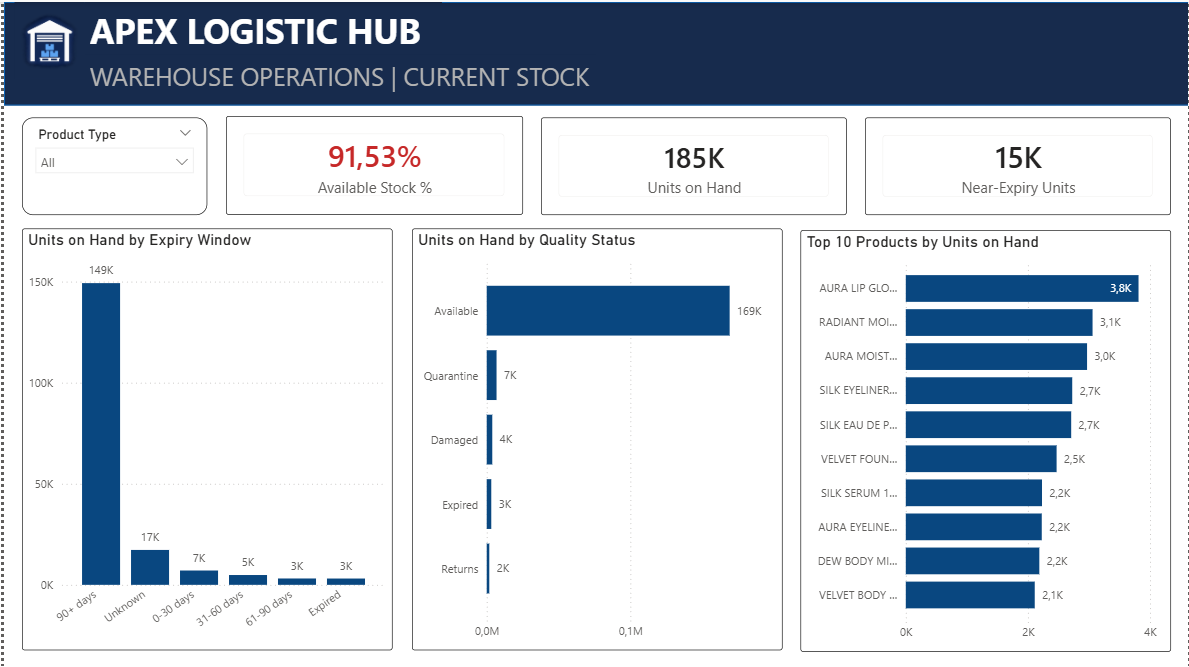

The page's visual inventory and layout, read from the dashboard file:
{"tool":"powerbi","page":{"name":"Current Stock","canvas":[1280,720],"ordinal":2},"visuals":[{"type":"shape","box":[0,0,1280.8,111.7],"z":0},{"type":"image","box":[11.3,0,76.1,82.6],"z":1000},{"type":"textbox","box":[87.4,0,385.4,69.6],"z":2000},{"type":"textbox","box":[87.4,56.7,552.2,45.3],"z":3000},{"type":"slicer","fields":{"Values":["dw dim_product.product_type"]},"box":[20,125,200,105],"z":4000},{"type":"cardVisual","fields":{"Data":["_Measures.Units on Hand"]},"box":[580.2,125,330,105],"z":6000},{"type":"clusteredColumnChart","title":"Units on Hand by Expiry Window","fields":{"Category":["dw fact_stock.expiry_bucket"],"Y":["_Measures.Units on Hand"]},"box":[20,245,400,455],"z":7000},{"type":"clusteredBarChart","title":"Units on Hand by Quality Status","fields":{"Category":["dw dim_quality_status.quality_status"],"Y":["_Measures.Units on Hand"]},"box":[440.4,244.5,400,455],"z":8000},{"type":"clusteredBarChart","title":"Top 10 Products by Units on Hand","fields":{"Category":["dw dim_product.description"],"Y":["_Measures.Units on Hand"]},"box":[860,246,400,455],"z":9000},{"type":"cardVisual","fields":{"Data":["_Measures.Near-Expiry Units"]},"box":[930,125,330,105],"z":10000},{"type":"cardVisual","fields":{"Data":["_Measures.Available Stock %"]},"box":[239.8,123.1,320.6,106.9],"z":10001}]}

Visuals, with their boxes in screenshot pixels (x1, y1, x2, y2), scaled from the page's 1280x720 canvas onto the 1189x667 screenshot:
shape: {"x1": 0, "y1": 0, "x2": 1188, "y2": 103}
image: {"x1": 10, "y1": 0, "x2": 81, "y2": 77}
textbox: {"x1": 81, "y1": 0, "x2": 439, "y2": 64}
textbox: {"x1": 81, "y1": 53, "x2": 594, "y2": 94}
slicer - dw dim_product.product_type: {"x1": 19, "y1": 116, "x2": 204, "y2": 213}
cardVisual - _Measures.Units on Hand: {"x1": 539, "y1": 116, "x2": 845, "y2": 213}
"Units on Hand by Expiry Window" clusteredColumnChart: {"x1": 19, "y1": 227, "x2": 390, "y2": 648}
"Units on Hand by Quality Status" clusteredBarChart: {"x1": 409, "y1": 227, "x2": 781, "y2": 648}
"Top 10 Products by Units on Hand" clusteredBarChart: {"x1": 799, "y1": 228, "x2": 1170, "y2": 649}
cardVisual - _Measures.Near-Expiry Units: {"x1": 864, "y1": 116, "x2": 1170, "y2": 213}
cardVisual - _Measures.Available Stock %: {"x1": 223, "y1": 114, "x2": 521, "y2": 213}
